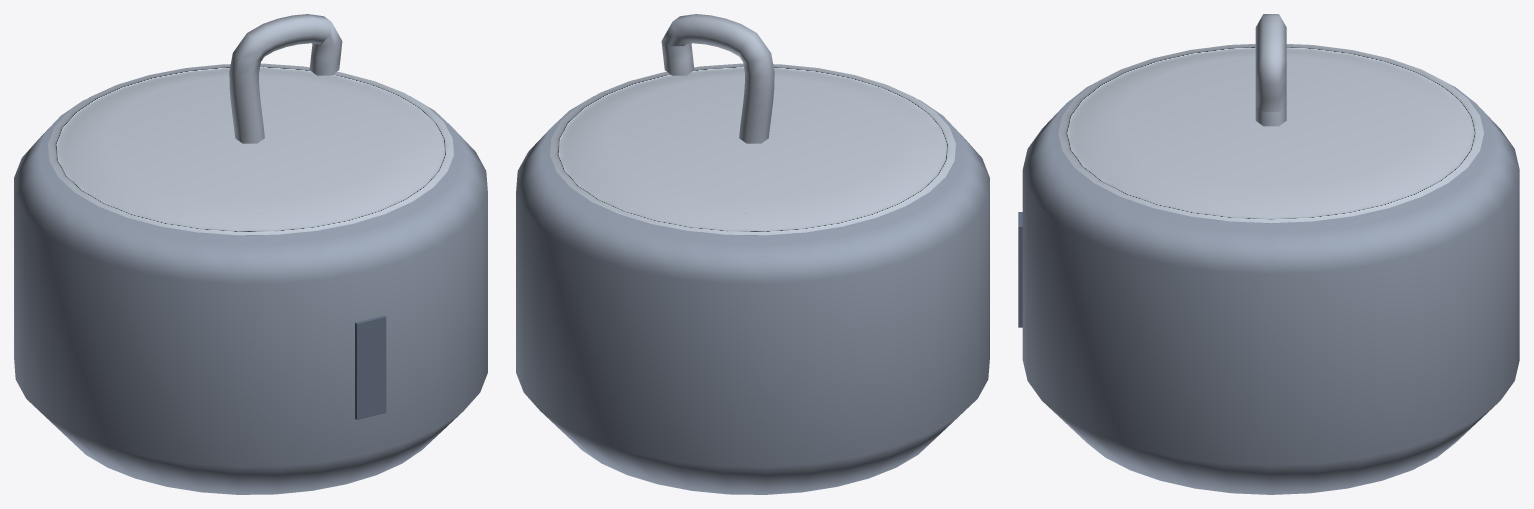
Rendered from 宠物饮水机-lite.glb.
The picture shows the model from 3 angles, left to right: view 1: azimuth 30°, elevation 25°; view 2: azimuth 150°, elevation 25°; view 3: azimuth 270°, elevation 25°; orthographic projection. The views are drawn at different scales.
Visible parts, largest first — view 1: body, light, soft, dark; view 2: body, light, soft; view 3: body, light, soft, dark.
Part boxes in pixels (<box>): body: <box>14,96,487,494</box>; light: <box>48,63,453,235</box>; soft: <box>229,14,342,143</box>; dark: <box>355,315,386,419</box>; body: <box>516,96,989,494</box>; light: <box>550,63,955,235</box>; soft: <box>661,14,774,143</box>; body: <box>1022,84,1519,494</box>; light: <box>1058,44,1483,223</box>; soft: <box>1255,14,1286,126</box>; dark: <box>1018,212,1022,327</box>.
Size of the model in its own units: 0.224 by 0.2008 by 0.226.
